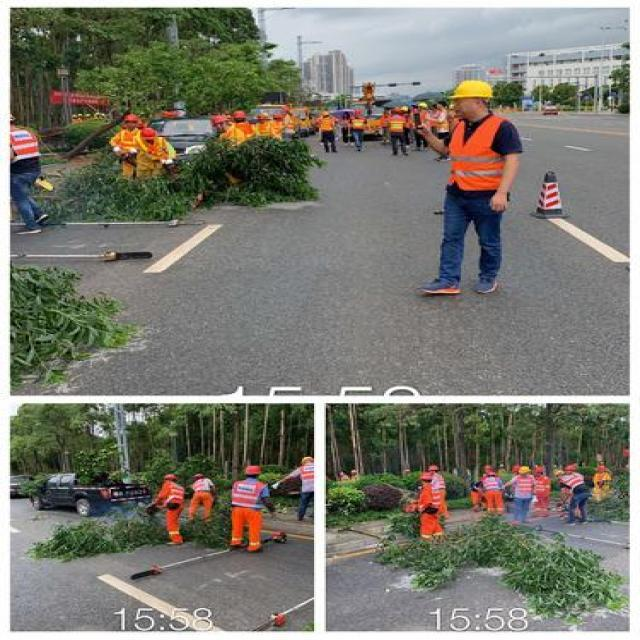fallen_object: (64, 38, 308, 160)
